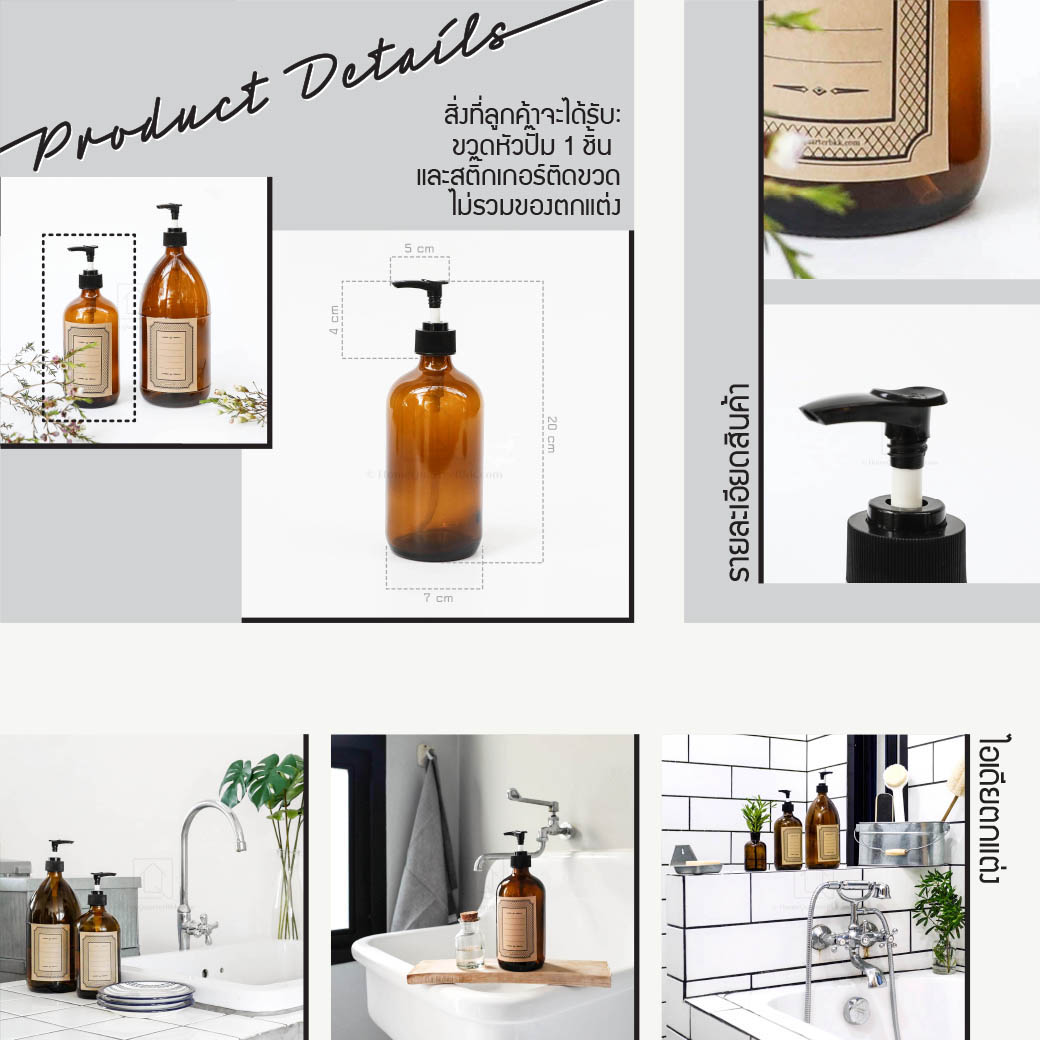glass_bottle: (366, 270, 506, 581), (134, 192, 219, 428), (53, 233, 128, 415), (492, 825, 558, 973), (451, 908, 490, 977)
